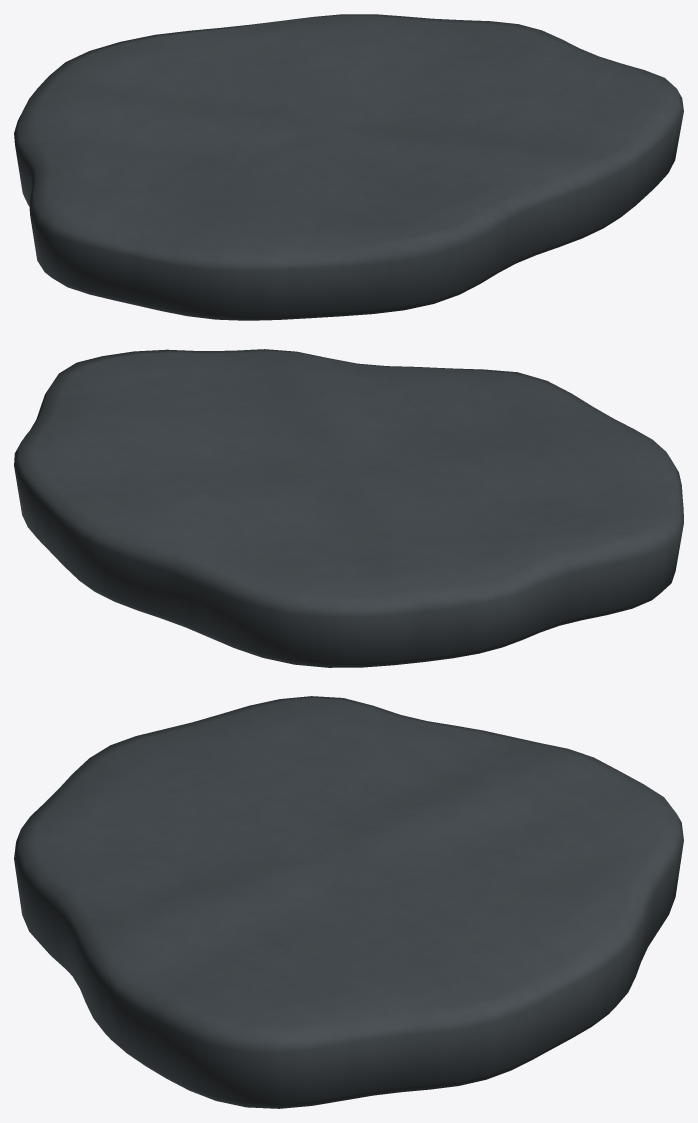
Rendered from SteppingStone_04.fbx.
3 renders of one model, top to bottom at view 1: azimuth 30°, elevation 25°; view 2: azimuth 150°, elevation 25°; view 3: azimuth 270°, elevation 25°, orthographic. The views are drawn at different scales.
Visible parts, largest first — view 1: SteppingStone_04; view 2: SteppingStone_04; view 3: SteppingStone_04.
Part boxes in pixels (x1,y1,x2,y2): SteppingStone_04: (14,14,683,320); SteppingStone_04: (14,349,683,667); SteppingStone_04: (14,696,683,1108).
Size of the model in its own units: 0.45 by 0.0503 by 0.3659.
1 material, 1 textured.
